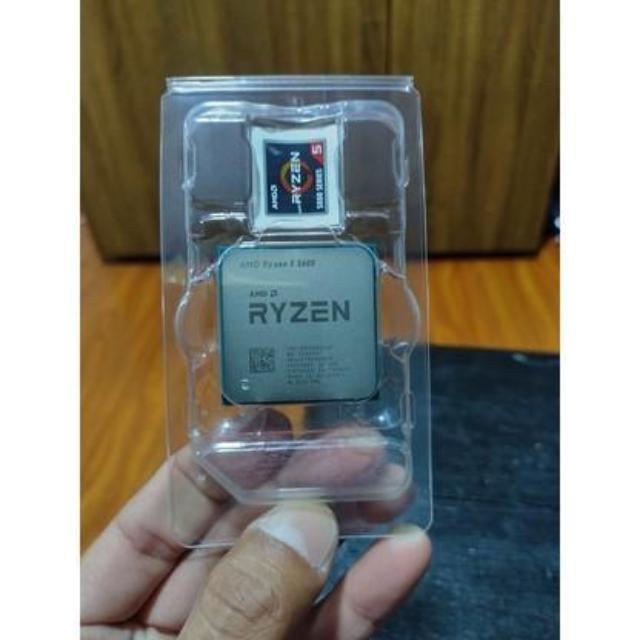CPU: (215, 248, 380, 403)
